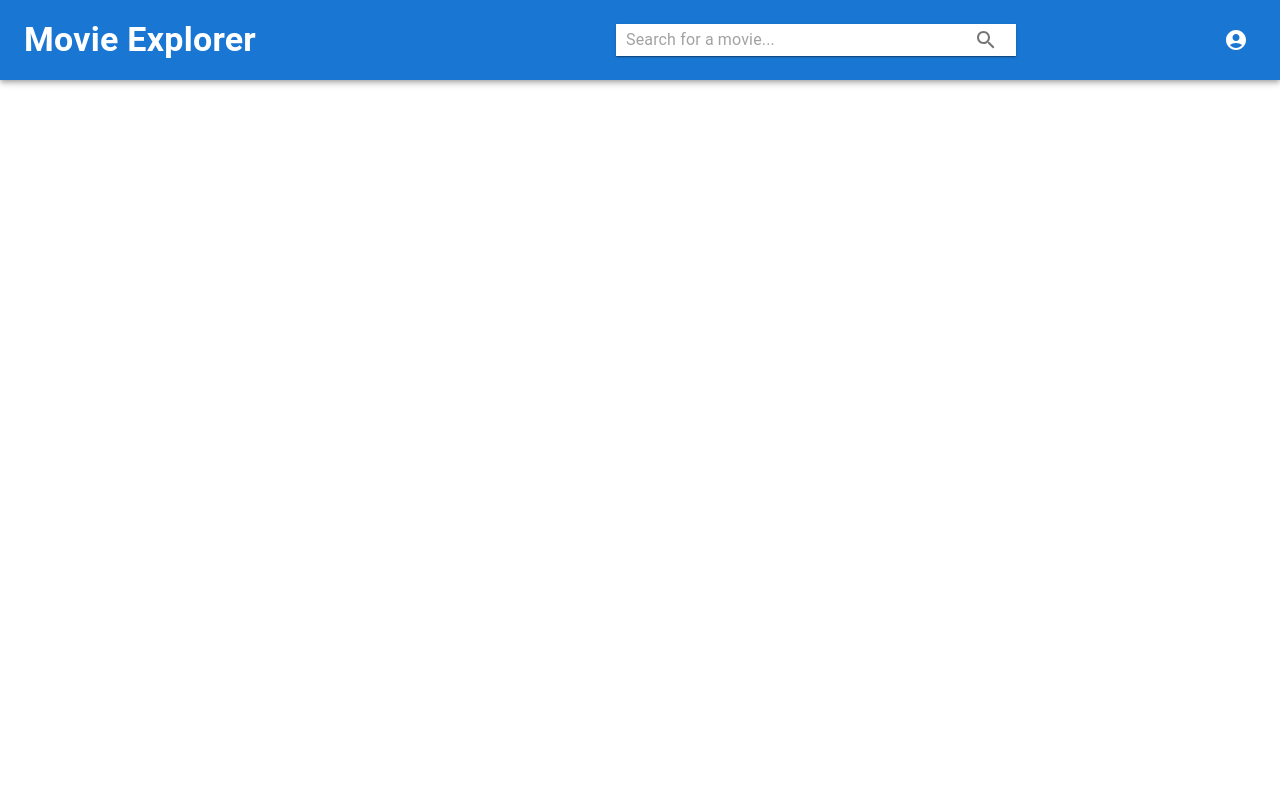
Header Component › opens and closes login modal when account icon is clicked
Click the button with test id "AccountCircleIcon".
click(1236, 40)  # box [1216,20,1256,60]
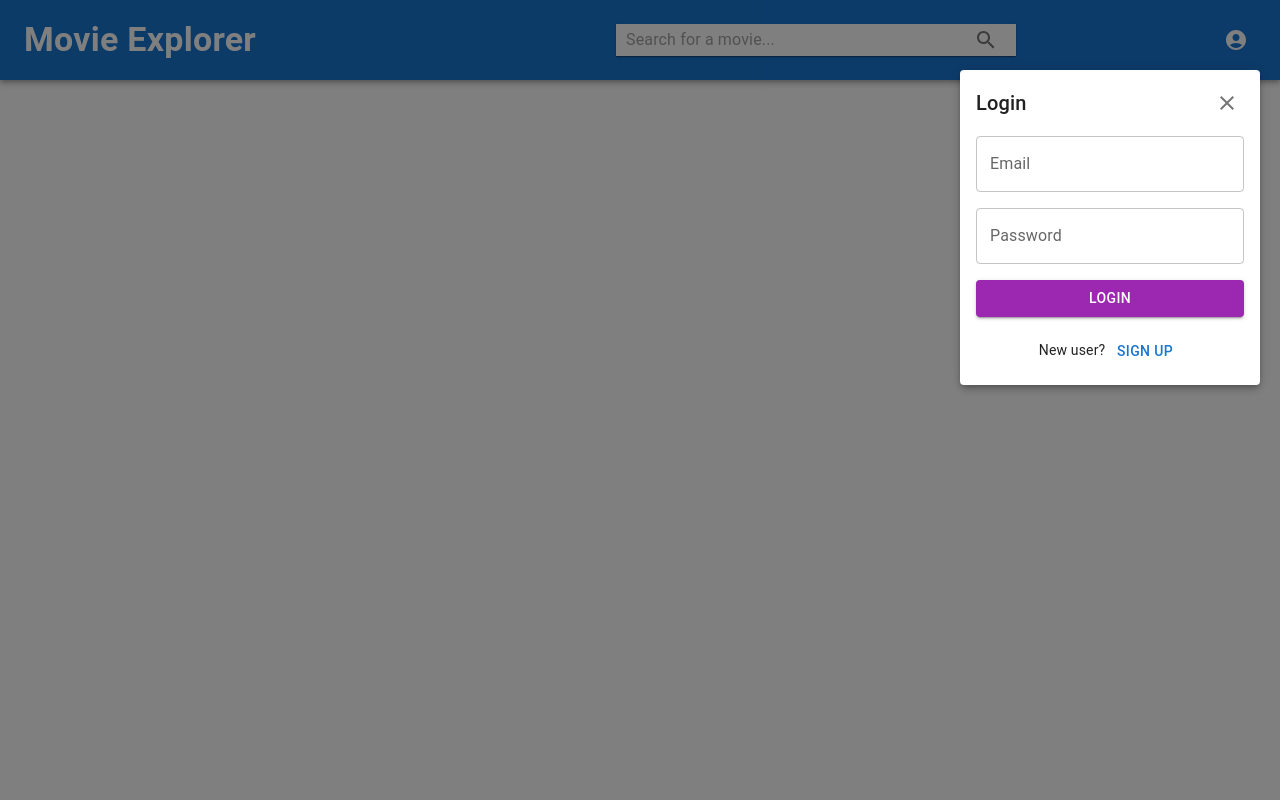
expect the element with test id "login-modal" is shown: met
